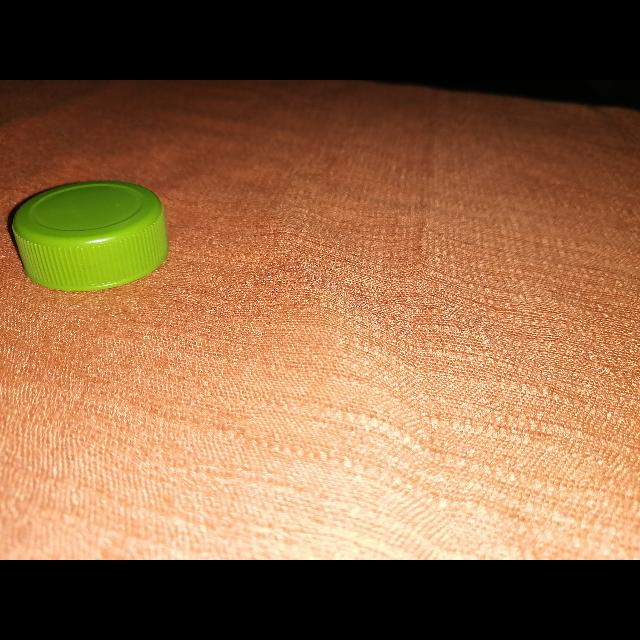plastic_bottle_cap: (12, 180, 170, 292)
